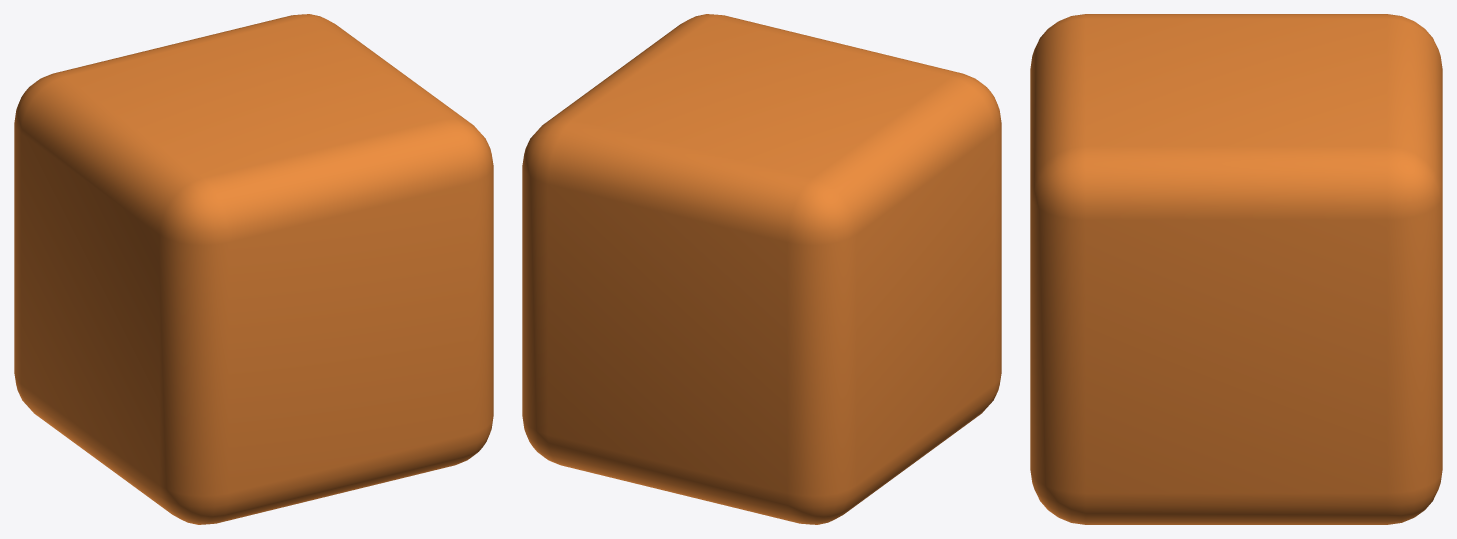
The model's file is BevelledCube.fbx.
3 renders of one model, left to right at view 1: azimuth 30°, elevation 25°; view 2: azimuth 150°, elevation 25°; view 3: azimuth 270°, elevation 25°, orthographic. The views are drawn at different scales.
Visible parts, largest first — view 1: Cube; view 2: Cube; view 3: Cube.
Part boxes in pixels (<box>): Cube: <box>14,14,493,524</box>; Cube: <box>522,14,1001,524</box>; Cube: <box>1030,14,1442,524</box>.
Size of the model in its own units: 2 by 2 by 2.
